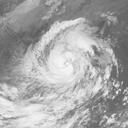cyclone: (24, 21, 111, 95)
